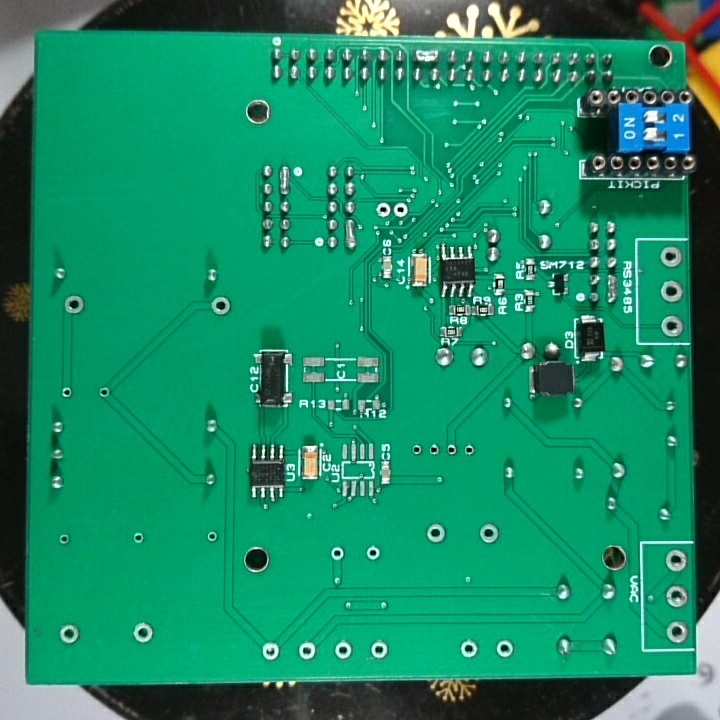F: (662, 545, 689, 577), (128, 620, 159, 645), (57, 622, 84, 649), (659, 277, 684, 305), (663, 583, 688, 611), (475, 520, 500, 547), (659, 243, 684, 269), (61, 293, 87, 318), (660, 311, 684, 338), (257, 638, 283, 662), (424, 520, 448, 546), (663, 619, 687, 643), (297, 639, 320, 663), (209, 295, 233, 318), (457, 638, 482, 660), (494, 638, 517, 661), (331, 638, 355, 660), (369, 638, 391, 660), (390, 198, 410, 221), (374, 200, 393, 223), (328, 543, 348, 564), (364, 543, 383, 564), (203, 526, 222, 546), (59, 383, 78, 403), (97, 383, 115, 403), (56, 529, 73, 549), (461, 442, 479, 459), (409, 442, 425, 460), (132, 529, 147, 548), (443, 442, 459, 459), (427, 441, 442, 459)
P: (343, 216, 358, 254), (412, 45, 441, 63), (604, 274, 620, 306), (277, 163, 292, 197)
